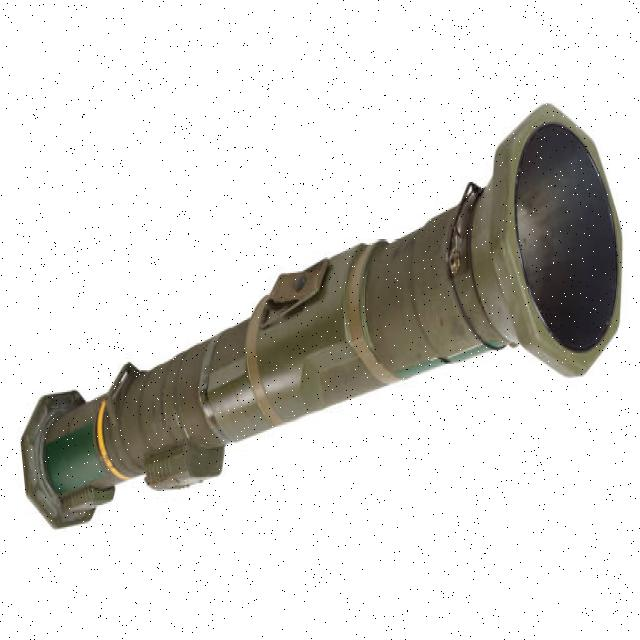bazooka: (14, 97, 631, 542)
